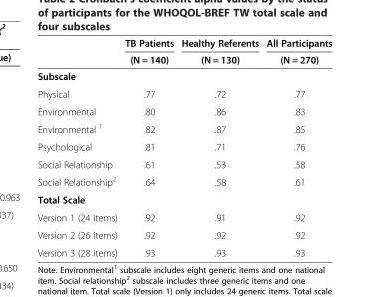table: (36, 36, 331, 257)
table column: (176, 36, 262, 257), (36, 36, 120, 257), (262, 36, 331, 257), (120, 36, 176, 257)
table column header: (36, 36, 331, 67)
table projected row header: (36, 190, 331, 208), (36, 67, 331, 84)
table row: (36, 84, 331, 102), (36, 119, 331, 137), (36, 137, 331, 155), (36, 172, 331, 190), (36, 190, 331, 208), (36, 225, 331, 243), (36, 50, 331, 67), (36, 67, 331, 84), (36, 102, 331, 119), (36, 155, 331, 172), (36, 208, 331, 225), (36, 36, 331, 50), (36, 243, 331, 257)
table spanning cell: (176, 36, 262, 67), (262, 36, 331, 67), (120, 36, 176, 67)
